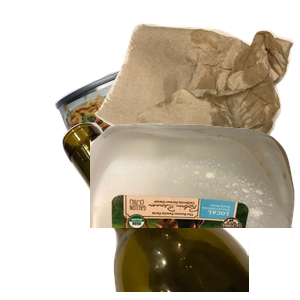glass: (60, 120, 300, 300)
metal: (52, 57, 260, 237)
plastic: (90, 120, 300, 300)
trash: (92, 21, 300, 201)
